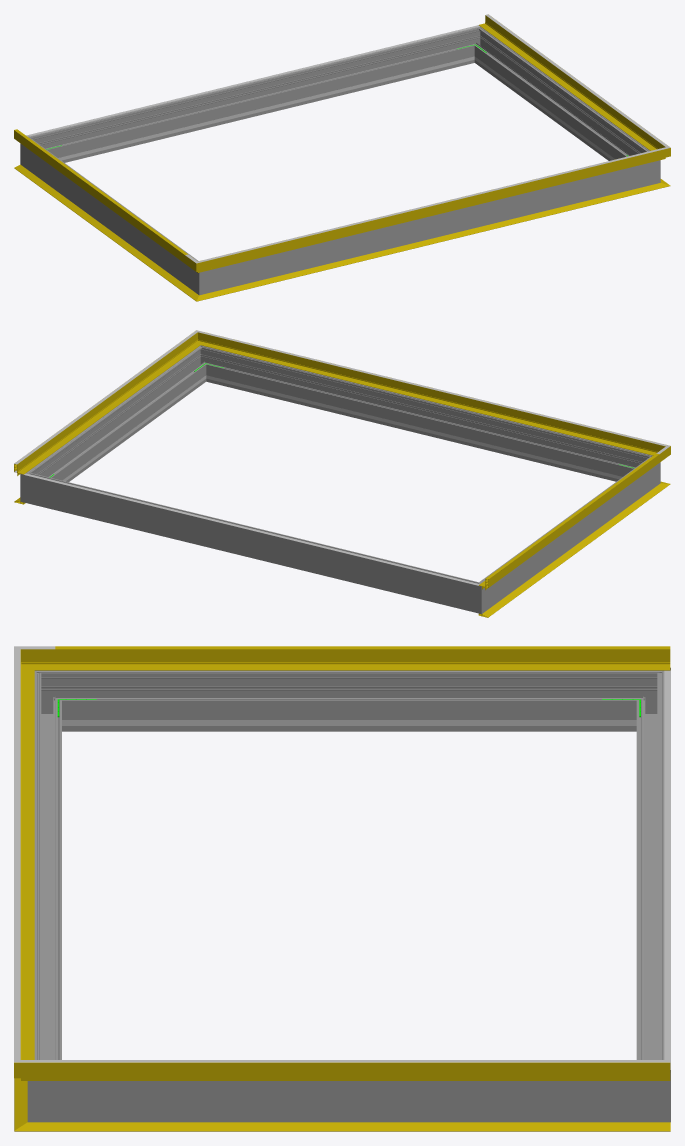
3 renders of one model, top to bottom at view 1: azimuth 30°, elevation 25°; view 2: azimuth 150°, elevation 25°; view 3: azimuth 270°, elevation 25°, orthographic. The views are drawn at different scales.
Parts seen in each view (by area): view 1: 3DGeom-276, 3DGeom-298, 3DGeom-297, 3DGeom-56, 3DGeom-268, 3DGeom-28, 3DGeom-58, 3DGeom-50, 3DGeom-244, 3DGeom-38, 3DGeom-220, 3DGeom-66 (+6 smaller); view 2: 3DGeom-298, 3DGeom-276, 3DGeom-297, 3DGeom-56, 3DGeom-268, 3DGeom-58, 3DGeom-50, 3DGeom-239, 3DGeom-38, 3DGeom-220, 3DGeom-66, 3DGeom-278 (+5 smaller); view 3: 3DGeom-268, 3DGeom-297, 3DGeom-50, 3DGeom-58, 3DGeom-276, 3DGeom-298, 3DGeom-30, 3DGeom-56, 3DGeom-232, 3DGeom-220, 3DGeom-66, 3DGeom-71 (+7 smaller).
Part boxes in pixels (x1,y1,x2,y2): 3DGeom-276: (42,30,471,162); 3DGeom-298: (219,165,640,290); 3DGeom-297: (476,33,645,160); 3DGeom-56: (214,152,651,268); 3DGeom-268: (31,143,193,286); 3DGeom-28: (213,186,650,296); 3DGeom-58: (479,15,656,149); 3DGeom-50: (14,130,184,263); 3DGeom-244: (65,61,455,159); 3DGeom-38: (14,164,190,292); 3DGeom-220: (26,25,479,136); 3DGeom-66: (215,151,650,258); 3DGeom-298: (209,349,638,481); 3DGeom-276: (40,476,465,609); 3DGeom-297: (35,352,204,481); 3DGeom-56: (211,336,649,453); 3DGeom-268: (487,462,649,605); 3DGeom-58: (14,339,194,475); 3DGeom-50: (479,454,659,590); 3DGeom-239: (225,380,615,478); 3DGeom-38: (478,489,658,617); 3DGeom-220: (24,473,479,585); 3DGeom-66: (215,335,650,442); 3DGeom-278: (462,576,493,614); 3DGeom-268: (68,670,629,731); 3DGeom-297: (68,1081,629,1122); 3DGeom-50: (55,649,670,670); 3DGeom-58: (55,1062,670,1080); 3DGeom-276: (636,685,664,1059); 3DGeom-298: (34,685,61,1059); 3DGeom-30: (55,1122,670,1131); 3DGeom-56: (20,664,34,1059); 3DGeom-232: (101,720,596,725); 3DGeom-220: (664,670,670,1069); 3DGeom-66: (14,663,20,1045); 3DGeom-71: (55,646,670,649).
Bounding box in the file's own units: 3.66 × 0.2831 × 2.44.
